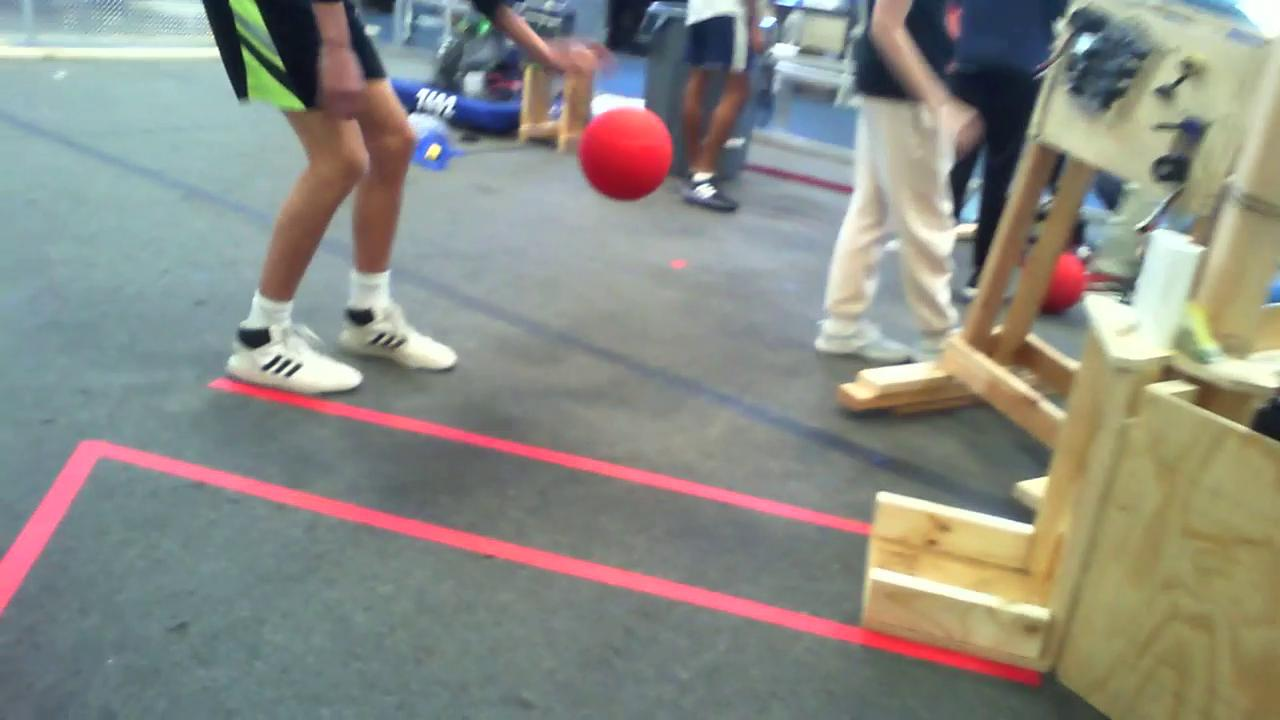Red_Ball: (567, 100, 683, 204)
